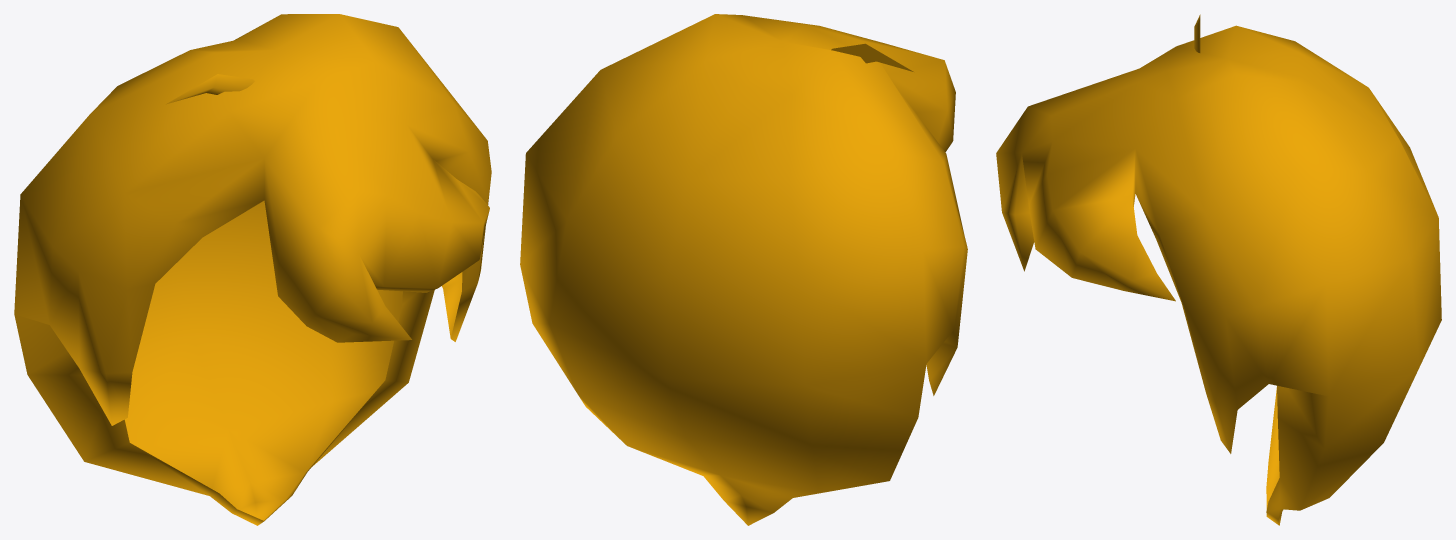
File: InterviewerHair.fbx
3 renders of one model, left to right at view 1: azimuth 30°, elevation 25°; view 2: azimuth 150°, elevation 25°; view 3: azimuth 270°, elevation 25°, orthographic. The views are drawn at different scales.
Visible parts, largest first — view 1: C_man_1_FBX2013.001; view 2: C_man_1_FBX2013.001; view 3: C_man_1_FBX2013.001.
Boxes of the visible parts, <box> form: C_man_1_FBX2013.001: <box>14,14,491,525</box>; C_man_1_FBX2013.001: <box>520,14,967,525</box>; C_man_1_FBX2013.001: <box>996,14,1441,525</box>.
Bounding box in the file's own units: 27.66 × 31.29 × 26.45.
